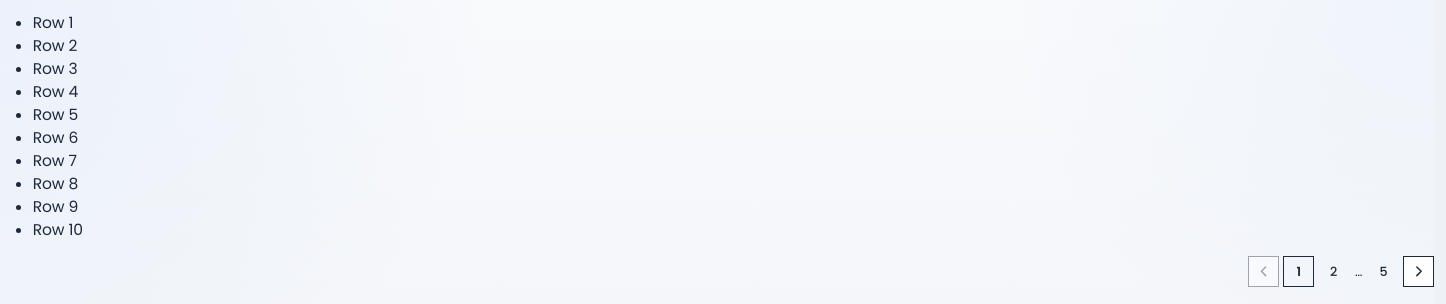
Test: Pagination › disables Previous on the first page and Next on the last
Expected: the button named "Previous page" is disabled, [1248,256,1279,287]
Step 1. Click the button named "Page 5" → (1384, 272), box [1368,256,1399,287]
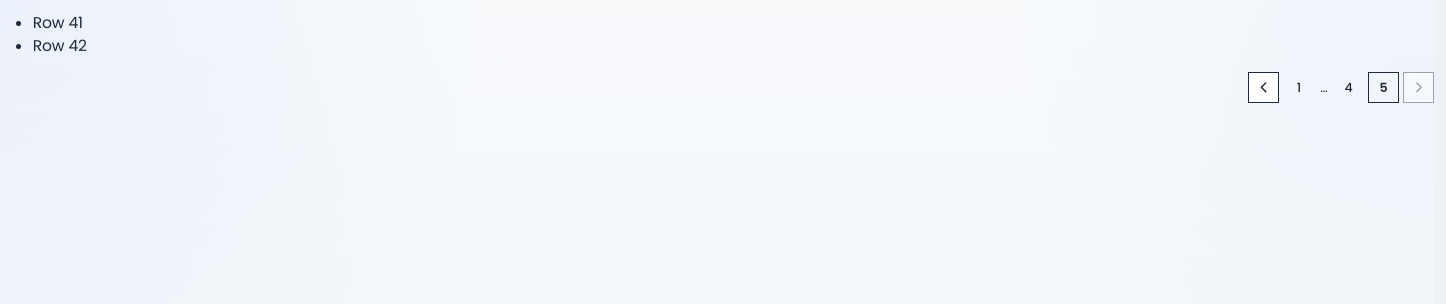
Expected: the button named "Next page" is disabled, [1403,72,1434,103]
Now the list item "Row 42" is shown, box [33,34,87,56]
